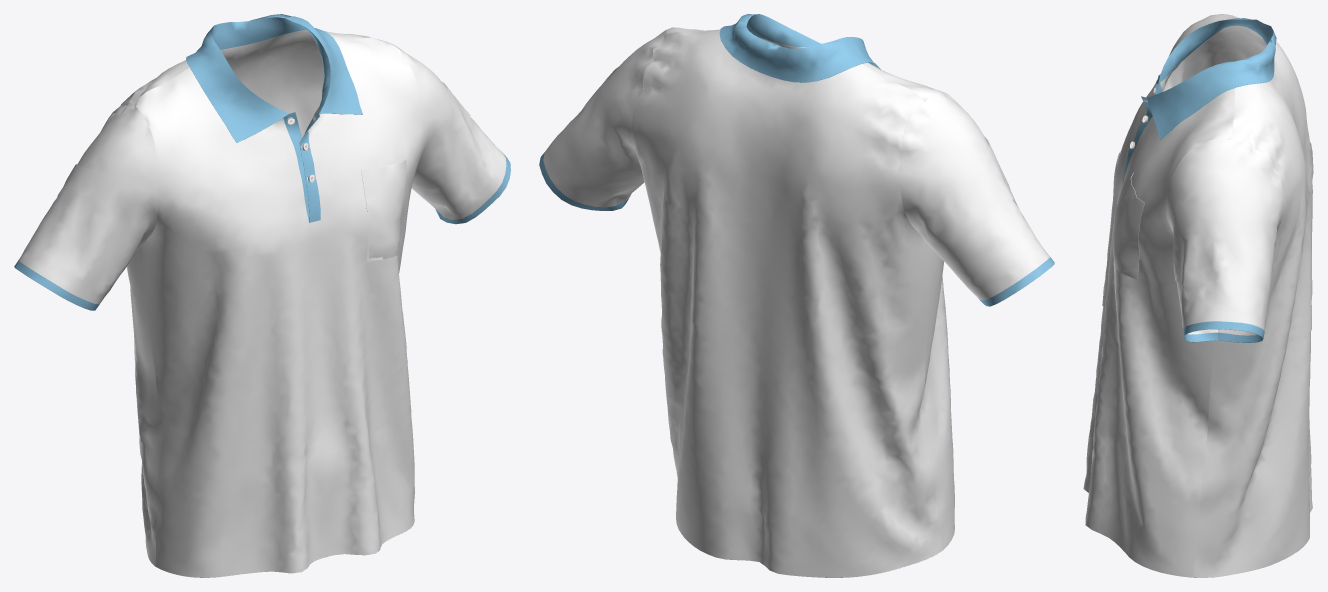
The model's file is polo-shirt.glb.
The picture shows the model from 3 angles, left to right: view 1: azimuth 30°, elevation 25°; view 2: azimuth 150°, elevation 25°; view 3: azimuth 270°, elevation 25°; orthographic projection. The views are drawn at different scales.
Parts seen in each view (by area): view 1: Object_12, zone_front, Object_9, Object_18, Object_11, Object_17, zone_left_sleeve, Object_16, zone_right_sleeve, Object_10, Object_14; view 2: Object_9, zone_back, Object_18, Object_17, Object_12, Object_11, zone_left_sleeve, Object_14; view 3: Object_12, Object_9, Object_17, Object_11, zone_right_sleeve, Object_18, Object_16, zone_back, zone_front, Object_13, Object_10.
Boxes of the visible parts, bbox=[...] form: Object_12: bbox=[135, 35, 427, 577]; zone_front: bbox=[247, 211, 382, 377]; Object_9: bbox=[113, 30, 370, 566]; Object_18: bbox=[18, 102, 158, 304]; Object_11: bbox=[186, 14, 362, 142]; Object_17: bbox=[396, 46, 506, 219]; zone_left_sleeve: bbox=[54, 164, 133, 258]; Object_16: bbox=[361, 159, 406, 259]; zone_right_sleeve: bbox=[441, 82, 482, 179]; Object_10: bbox=[283, 111, 320, 222]; Object_14: bbox=[14, 260, 99, 310]; Object_9: bbox=[631, 30, 942, 577]; zone_back: bbox=[683, 177, 821, 354]; Object_18: bbox=[899, 92, 1049, 300]; Object_17: bbox=[543, 30, 665, 207]; Object_12: bbox=[664, 27, 954, 550]; Object_11: bbox=[719, 14, 879, 82]; zone_left_sleeve: bbox=[958, 137, 1018, 213]; Object_14: bbox=[979, 257, 1054, 306]; Object_12: bbox=[1083, 14, 1234, 577]; Object_9: bbox=[1193, 16, 1312, 577]; Object_17: bbox=[1165, 138, 1283, 335]; Object_11: bbox=[1147, 18, 1276, 139]; zone_right_sleeve: bbox=[1173, 199, 1260, 287]; Object_18: bbox=[1166, 25, 1266, 89]; Object_16: bbox=[1112, 173, 1144, 279]; zone_back: bbox=[1291, 142, 1313, 337]; zone_front: bbox=[1102, 151, 1121, 343]; Object_13: bbox=[1183, 321, 1264, 342]; Object_10: bbox=[1123, 83, 1161, 183].
Size of the model in its own units: 705 by 689 by 297.
